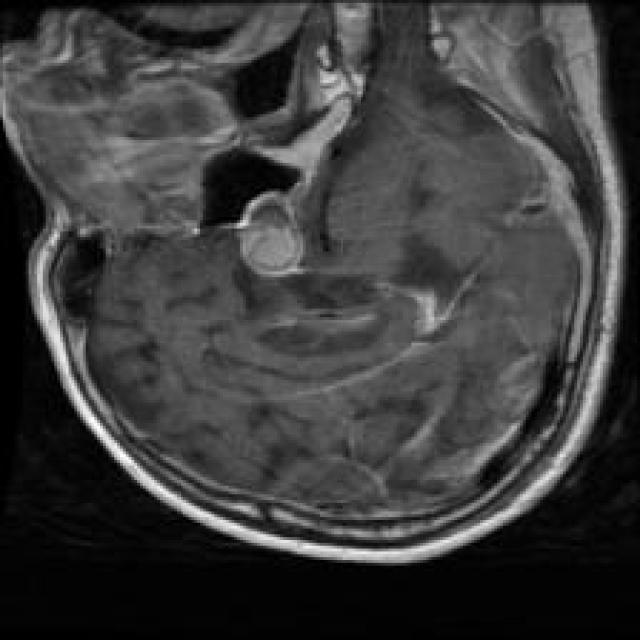pituitary_tumor: (221, 173, 318, 301)
